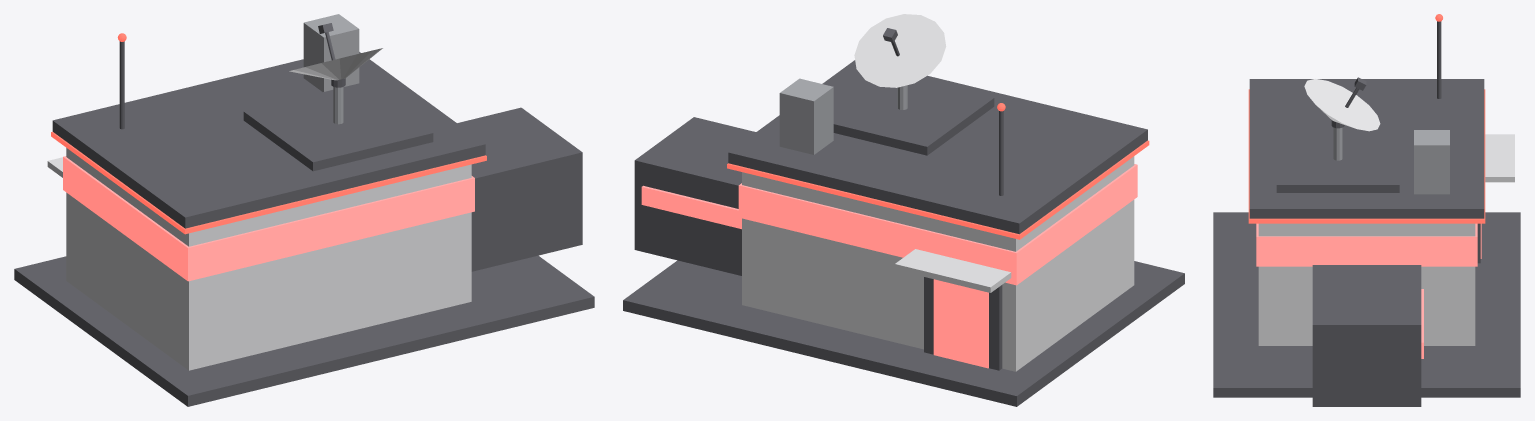
The model's file is jp_research_lab.glb.
3 views of the same model, side by side, from view 1: azimuth 30°, elevation 25°; view 2: azimuth 150°, elevation 25°; view 3: azimuth 270°, elevation 25° (orthographic). The views are drawn at different scales.
Parts seen in each view (by area): view 1: Lab, RoofSlab, Pad, Wing, GlassBand, Platform, RoofStrip, TankFarm, Dish, Mast; view 2: Lab, RoofSlab, Pad, GlassBand, Wing, Platform, Dish, Door, TankFarm, Canopy, RoofStrip, WingWin (+1 smaller); view 3: Pad, RoofSlab, Wing, Lab, Platform, GlassBand, Dish, TankFarm, RoofStrip, Canopy, Mast, DishPole.
Part boxes in pixels (bbox=[...]): Lab: bbox=[66, 148, 471, 370]; RoofSlab: bbox=[52, 52, 485, 228]; Pad: bbox=[14, 255, 594, 406]; Wing: bbox=[457, 107, 582, 271]; GlassBand: bbox=[63, 156, 474, 281]; Platform: bbox=[243, 82, 433, 171]; RoofStrip: bbox=[51, 131, 486, 234]; TankFarm: bbox=[303, 14, 359, 91]; Dish: bbox=[289, 23, 382, 87]; Mast: bbox=[119, 41, 124, 129]; Lab: bbox=[742, 156, 1134, 371]; RoofSlab: bbox=[728, 60, 1147, 234]; Pad: bbox=[623, 260, 1184, 406]; GlassBand: bbox=[738, 164, 1137, 285]; Wing: bbox=[634, 117, 755, 275]; Platform: bbox=[833, 79, 994, 155]; Dish: bbox=[854, 14, 946, 87]; Door: bbox=[933, 279, 988, 368]; TankFarm: bbox=[779, 78, 833, 154]; Canopy: bbox=[895, 249, 1011, 292]; RoofStrip: bbox=[727, 140, 1149, 239]; WingWin: bbox=[641, 185, 741, 229]; Pad: bbox=[1213, 212, 1520, 397]; RoofSlab: bbox=[1249, 79, 1484, 218]; Wing: bbox=[1312, 265, 1421, 406]; Lab: bbox=[1258, 223, 1475, 345]; Platform: bbox=[1276, 133, 1399, 192]; GlassBand: bbox=[1256, 223, 1477, 266]; Dish: bbox=[1304, 77, 1380, 131]; TankFarm: bbox=[1414, 130, 1449, 194]; RoofStrip: bbox=[1248, 89, 1485, 223]; Canopy: bbox=[1485, 134, 1514, 182]; Mast: bbox=[1437, 21, 1441, 98]; DishPole: bbox=[1333, 127, 1342, 160].
Bounding box in the file's own units: 12.75 × 7.28 × 8.5.
